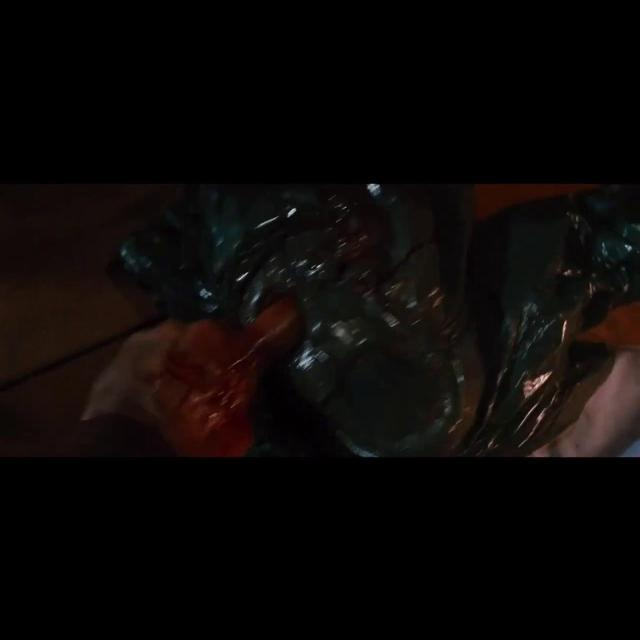blood: (152, 302, 302, 460)
